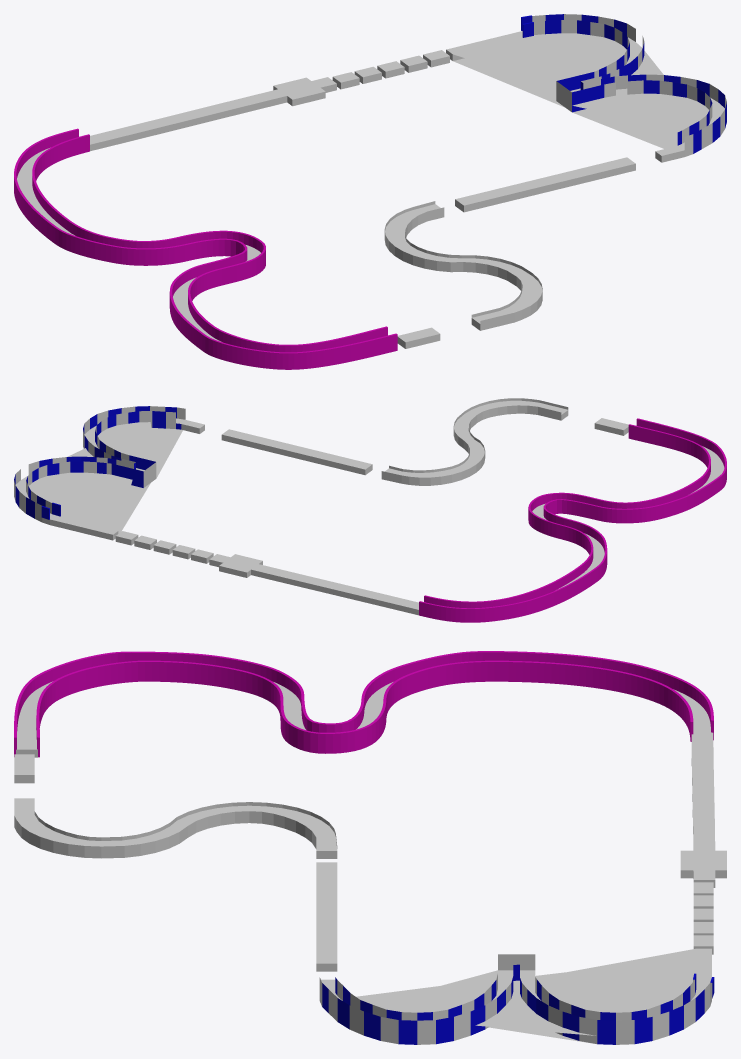
The model's file is courceA_2.2.fbx.
3 views of the same model, one above another, from view 1: azimuth 30°, elevation 25°; view 2: azimuth 150°, elevation 25°; view 3: azimuth 270°, elevation 25° (orthographic). The views are drawn at different scales.
Visible parts, largest first — view 1: cource, 立方体.001, 立方体, floor_A; view 2: cource, 立方体.001, 立方体, floor_A; view 3: cource, 立方体, 立方体.001, floor_A.
Part boxes in pixels (x1,y1,x2,y2): cource: (332, 14, 726, 348); 立方体.001: (14, 128, 397, 369); 立方体: (32, 134, 387, 352); floor_A: (17, 77, 336, 341); cource: (14, 398, 628, 563); 立方体.001: (419, 418, 726, 622); 立方体: (424, 424, 710, 608); floor_A: (209, 446, 724, 615); cource: (14, 754, 714, 1044); 立方体: (36, 660, 693, 757); 立方体.001: (14, 651, 713, 756); floor_A: (16, 681, 726, 887).
Size of the model in its own units: 81.06 by 2.45 by 65.37.
